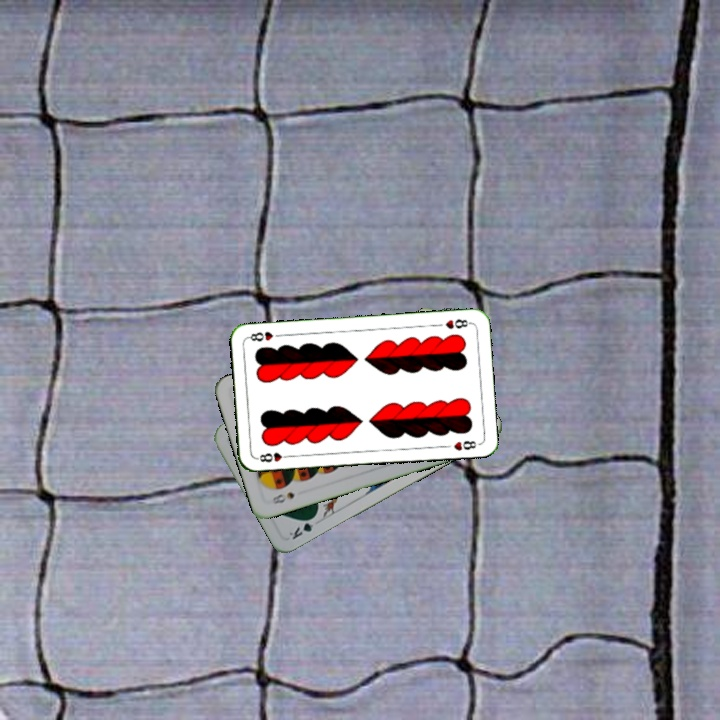GK: (285, 512, 319, 542)
H8: (253, 449, 293, 465), (441, 315, 473, 332)
S8: (266, 488, 297, 507)
